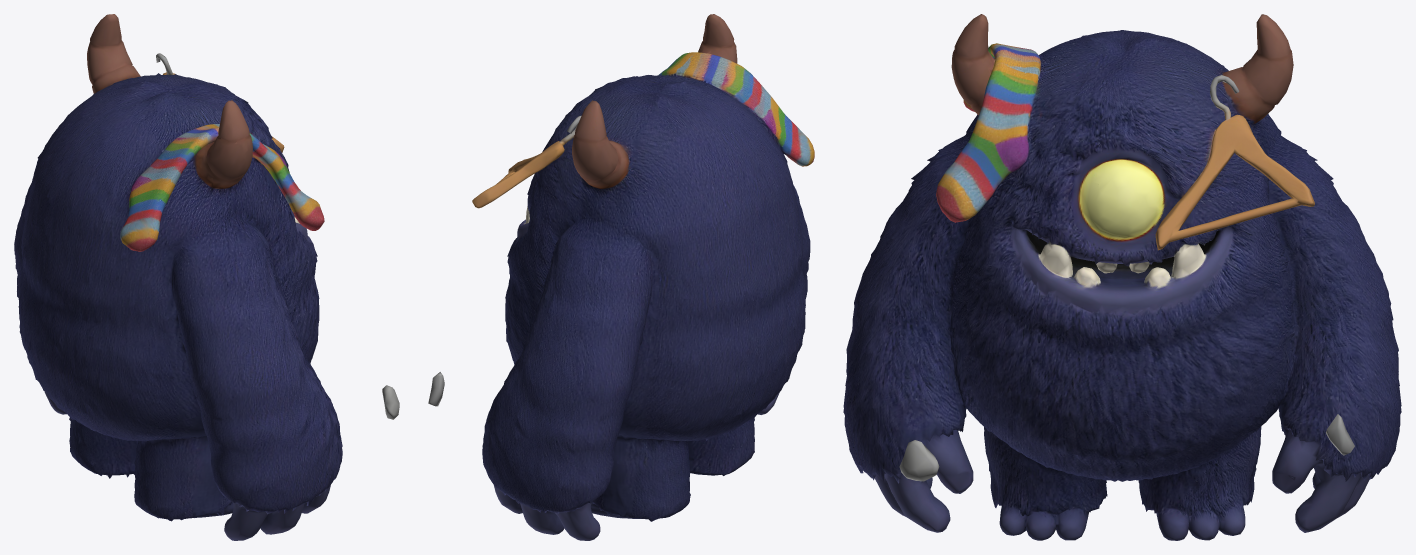
Rendered from closet_monster.glb.
3 renders of one model, left to right at view 1: azimuth 30°, elevation 25°; view 2: azimuth 150°, elevation 25°; view 3: azimuth 270°, elevation 25°, orthographic. The views are drawn at different scales.
Visible parts, largest first — view 1: tripo_node_fdf190e9-9761-4dac-8a95-e741ef49c4c7; view 2: tripo_node_fdf190e9-9761-4dac-8a95-e741ef49c4c7; view 3: tripo_node_fdf190e9-9761-4dac-8a95-e741ef49c4c7.
Boxes of the visible parts, x1,y1,x2,y2 form: tripo_node_fdf190e9-9761-4dac-8a95-e741ef49c4c7: (14,14,399,540); tripo_node_fdf190e9-9761-4dac-8a95-e741ef49c4c7: (428,14,814,540); tripo_node_fdf190e9-9761-4dac-8a95-e741ef49c4c7: (843,14,1401,540).
Size of the model in its own units: 0.6686 by 0.9978 by 1.
1 material, 1 textured.
